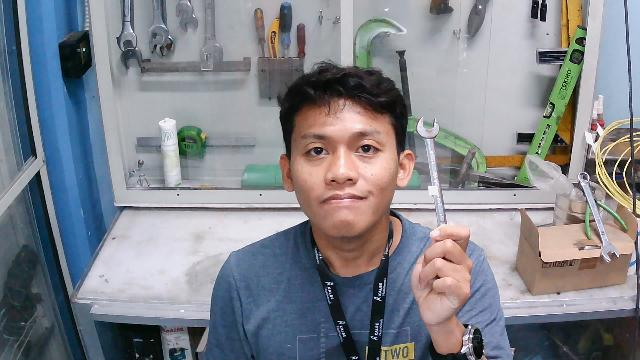kunci_pass_13: (411, 111, 473, 283)
